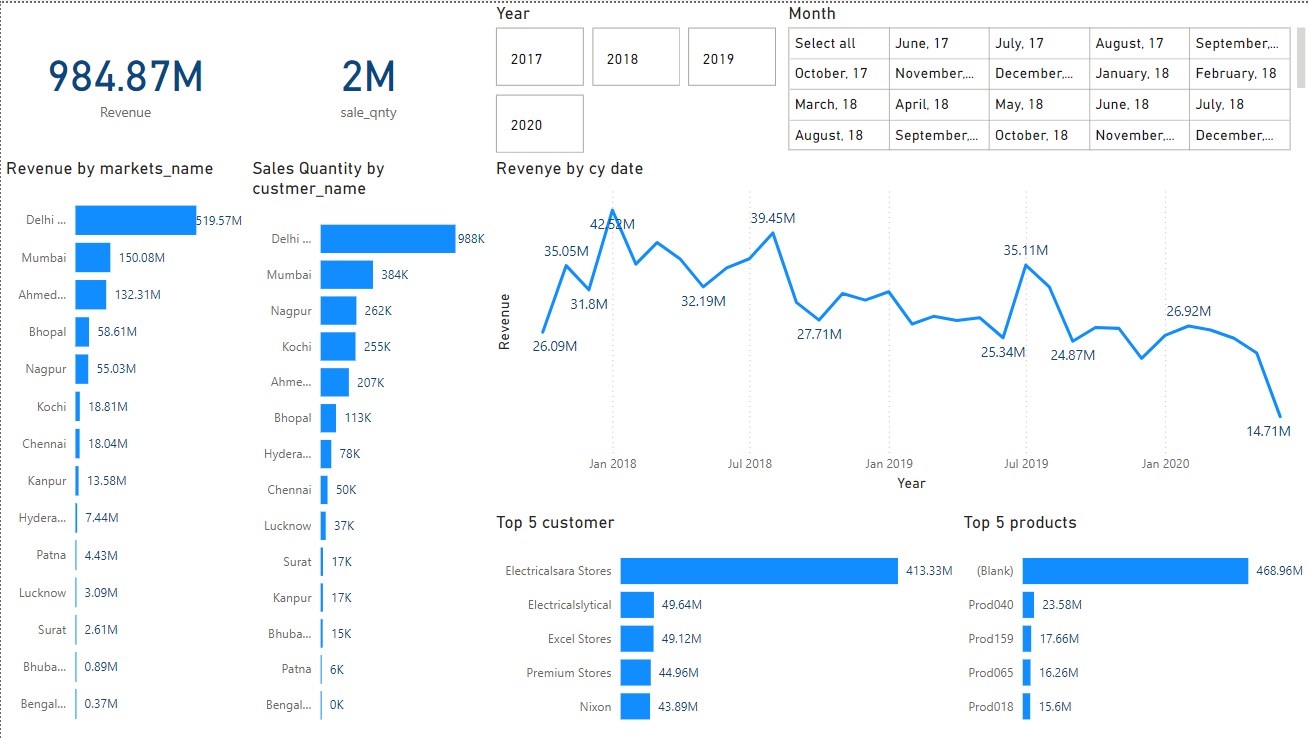

The page's visual inventory and layout, read from the dashboard file:
{"tool":"powerbi","page":{"name":"Page 1","canvas":[1280,720],"ordinal":0},"visuals":[{"type":"card","fields":{"Values":["BaseMeasures.Revenue"]},"box":[1.2,0,241.2,151.2],"z":0},{"type":"card","fields":{"Values":["BaseMeasures.sale_qnty"]},"box":[241.2,0,237.5,151.2],"z":1000},{"type":"clusteredBarChart","title":"Sales Quantity by custmer_name","fields":{"Category":["sales markets.markets_name"],"Y":["BaseMeasures.sale_qnty"]},"box":[241.2,151.2,237.5,568.8],"z":2000},{"type":"clusteredBarChart","fields":{"Y":["BaseMeasures.Revenue"],"Category":["sales markets.markets_name"]},"box":[0,151.2,241.2,568.8],"z":3000},{"type":"advancedSlicerVisual","fields":{"Values":["sales date.cy_date.Variation.Date Hierarchy.Year"]},"box":[478.8,0,286.2,151.2],"z":4000},{"type":"advancedSlicerVisual","title":"Month","fields":{"Values":["sales date.cy_date"]},"box":[765,0,515,151.2],"z":5000},{"type":"clusteredBarChart","title":"Top 5 customer","fields":{"Y":["BaseMeasures.Revenue"],"Category":["sales customers.custmer_name"]},"box":[478.8,497.5,457.5,222.5],"z":6000},{"type":"clusteredBarChart","title":"Top 5 products","fields":{"Y":["BaseMeasures.Revenue"],"Category":["sales products.product_code"]},"box":[936.2,497.5,343.8,222.5],"z":7000},{"type":"lineChart","title":"Revenye by cy date","fields":{"Y":["BaseMeasures.Revenue"],"Category":["sales date.cy_date.Variation.Date Hierarchy.Year","sales date.cy_date.Variation.Date Hierarchy.Quarter","sales date.cy_date.Variation.Date Hierarchy.Month","sales date.cy_date.Variation.Date Hierarchy.Day"]},"box":[478.8,151.2,801.2,331.2],"z":8000}]}

Visuals, with their boxes in screenshot pixels (x1, y1, x2, y2), scaled from the page's 1280x720 canvas onto the 1309x739 screenshot:
card - BaseMeasures.Revenue: [left=1, top=0, right=248, bottom=155]
card - BaseMeasures.sale_qnty: [left=247, top=0, right=490, bottom=155]
"Sales Quantity by custmer_name" clusteredBarChart: [left=247, top=155, right=490, bottom=738]
clusteredBarChart - BaseMeasures.Revenue x sales markets.markets_name: [left=0, top=155, right=247, bottom=738]
advancedSlicerVisual - sales date.cy_date.Variation.Date Hierarchy.Year: [left=490, top=0, right=782, bottom=155]
"Month" advancedSlicerVisual: [left=782, top=0, right=1308, bottom=155]
"Top 5 customer" clusteredBarChart: [left=490, top=511, right=958, bottom=738]
"Top 5 products" clusteredBarChart: [left=957, top=511, right=1308, bottom=738]
"Revenye by cy date" lineChart: [left=490, top=155, right=1308, bottom=495]
